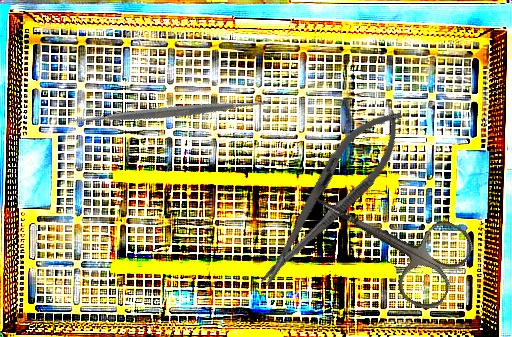Iris Scissors: (290, 155, 479, 317)
Needle Holder: (242, 95, 418, 299)
Spatula Surgical: (62, 4, 278, 219)
